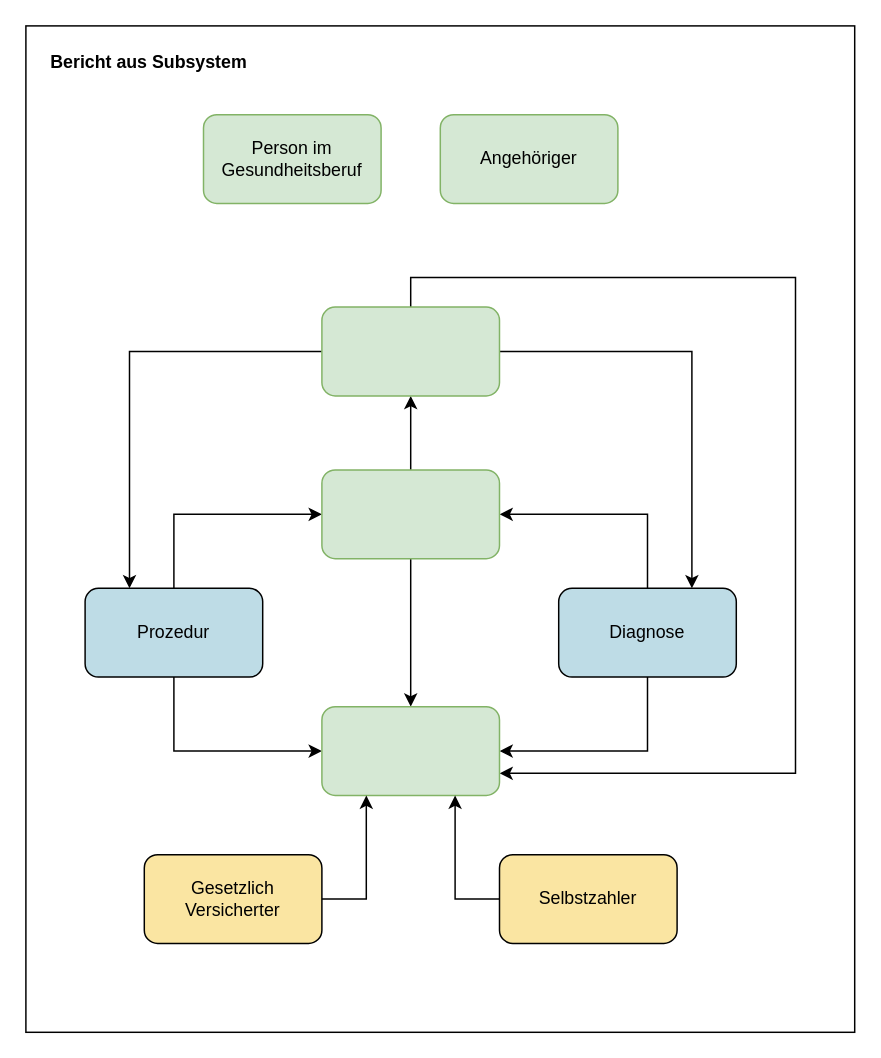
Some shapes in this 881 by 1058 pixel diagram are drawn without their labels. Each missing label, with the box of its shape:
Abrechnungsfall: (320, 306, 500, 396)
Kontakt (Fall): (320, 468, 500, 559)
Patient: (320, 705, 500, 796)
